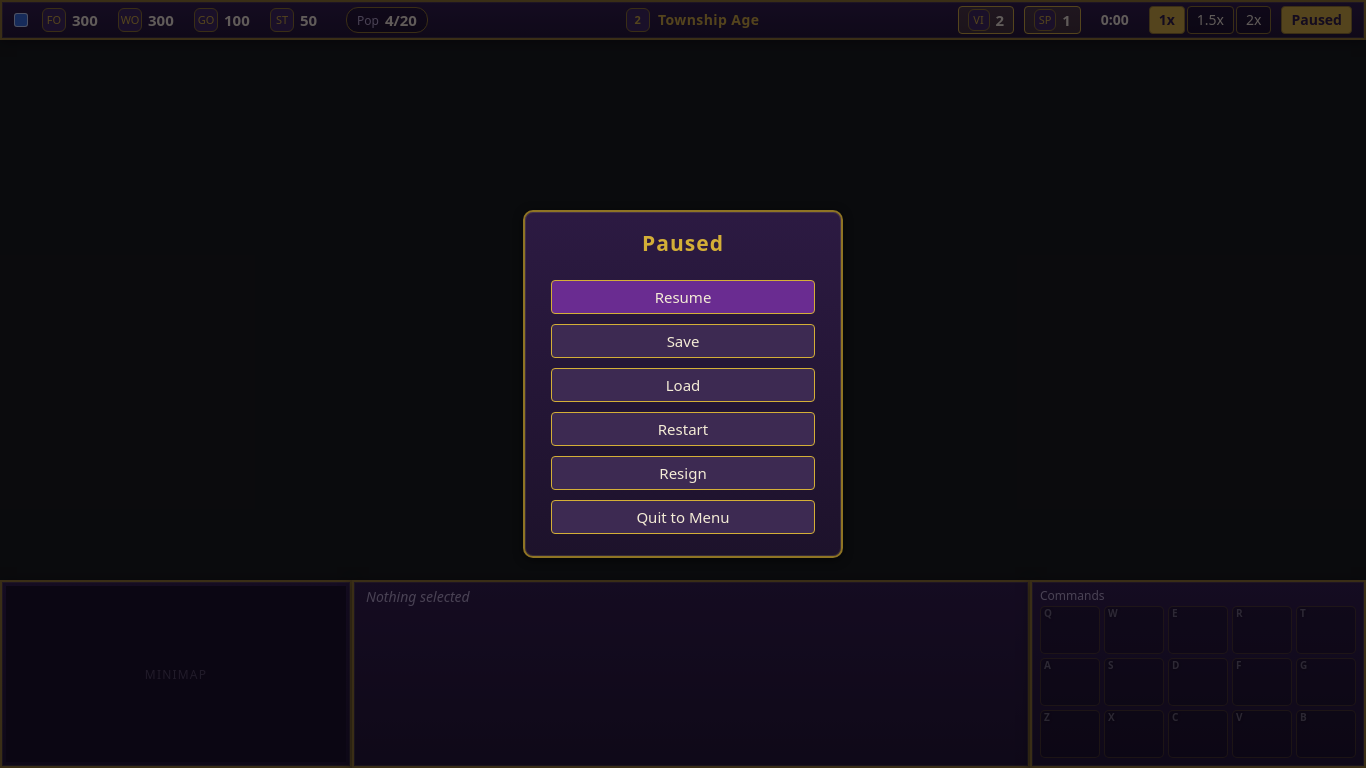
Test: Hud › opens the pause menu on the menu action and Resume closes it
The image size is (1366, 768).
Expected: the button with test id "menu-save" is shown, left=551, top=324, right=815, bottom=358
Expected: the button with test id "menu-load" is shown, left=551, top=368, right=815, bottom=402
Click the button with test id "menu-resume".
click(683, 297)  # box left=551, top=280, right=815, bottom=314
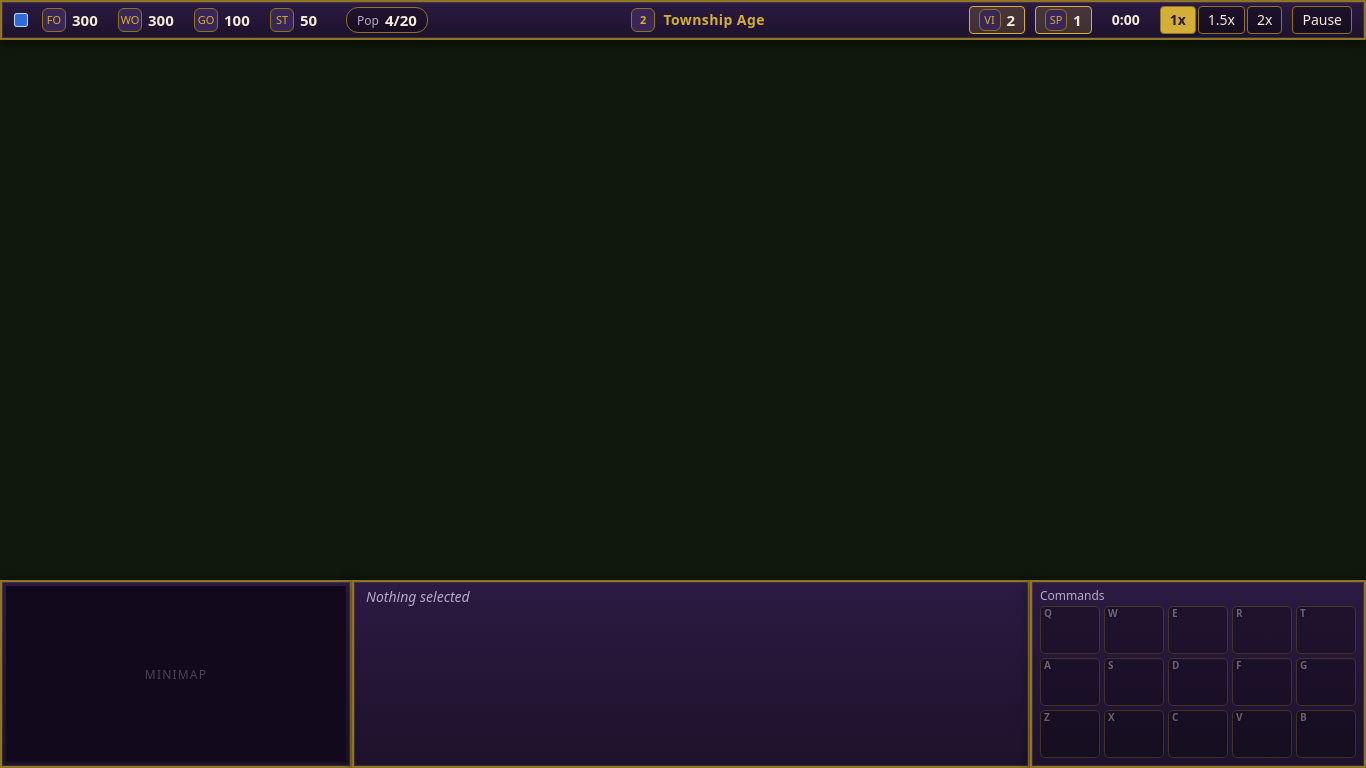
Now the element with test id "game-menu" is gone
